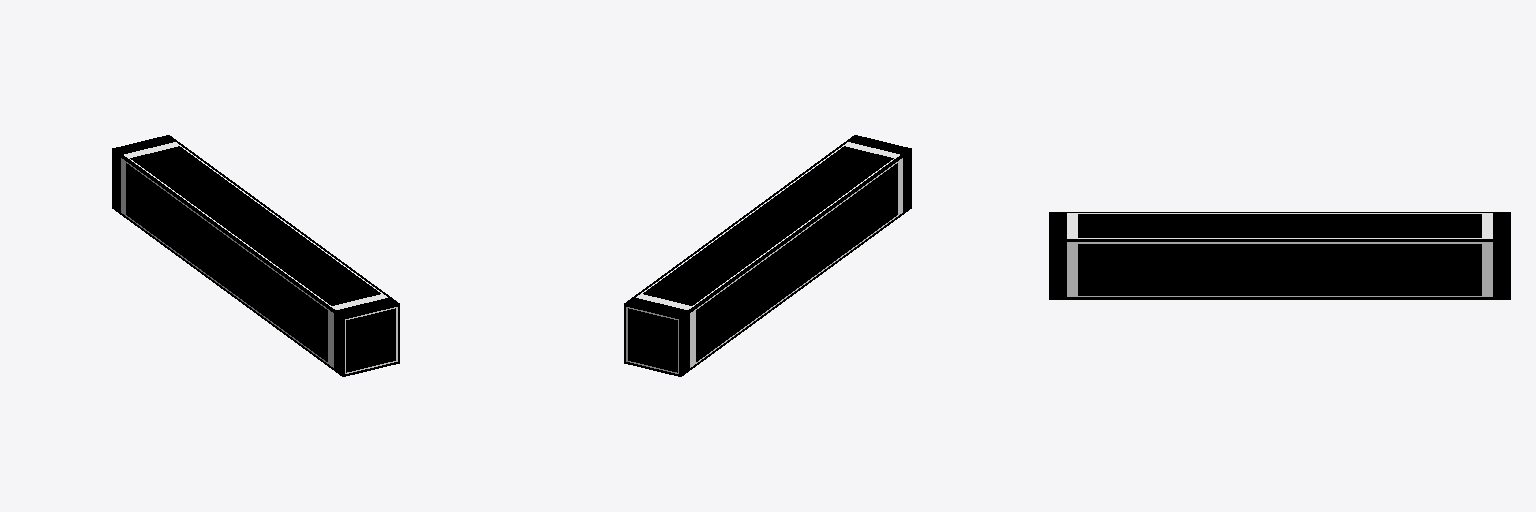
3 renders of one model, left to right at view 1: azimuth 30°, elevation 25°; view 2: azimuth 150°, elevation 25°; view 3: azimuth 270°, elevation 25°, orthographic.
Visible parts, largest first — view 1: bird_a_Cube; view 2: bird_a_Cube; view 3: bird_a_Cube.
Part boxes in pixels (bbox=[...]): bird_a_Cube: bbox=[112, 135, 399, 376]; bird_a_Cube: bbox=[624, 135, 911, 376]; bird_a_Cube: bbox=[1049, 212, 1510, 299].
Bounding box in the file's own units: 2 × 2 × 14.
1 materials, 1 textured.